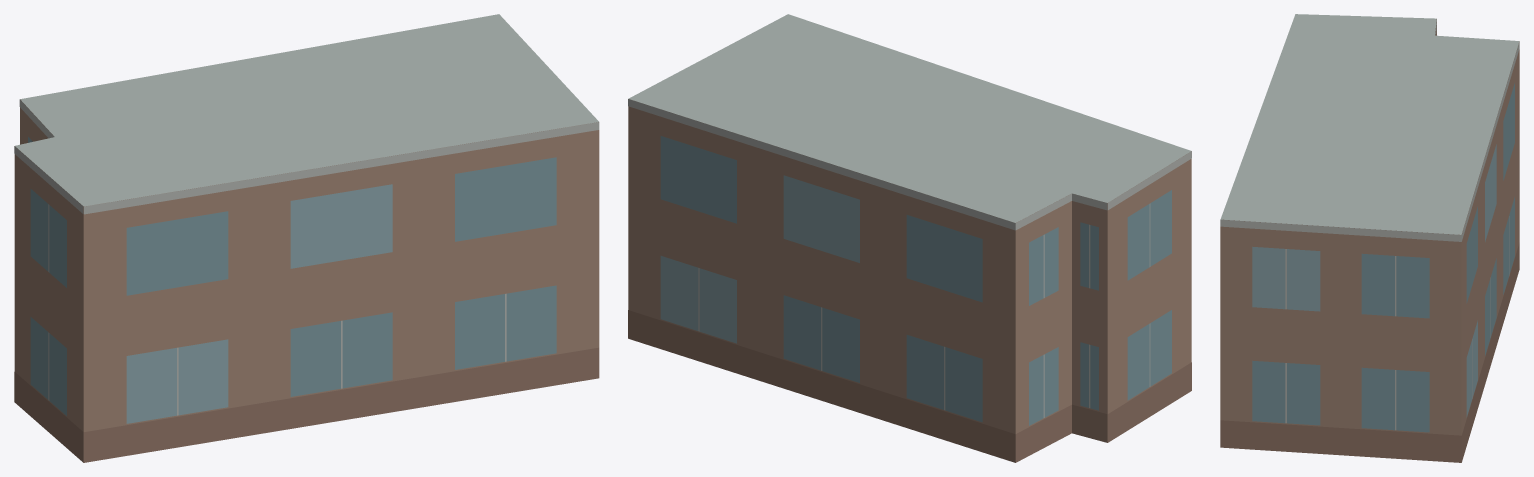
The model's file is survey-upis-32746376.glb.
The picture shows the model from 3 angles, left to right: view 1: azimuth 30°, elevation 25°; view 2: azimuth 150°, elevation 25°; view 3: azimuth 270°, elevation 25°; orthographic projection. The views are drawn at different scales.
Visible parts, largest first — view 1: survey-upis-32746376.tmp; view 2: survey-upis-32746376.tmp; view 3: survey-upis-32746376.tmp.
Boxes of the visible parts, x1,y1,x2,y2 form: survey-upis-32746376.tmp: [14, 14, 599, 462]; survey-upis-32746376.tmp: [628, 14, 1191, 462]; survey-upis-32746376.tmp: [1220, 14, 1519, 462].
Bounding box in the file's own units: 16.32 × 7.85 × 9.35.
